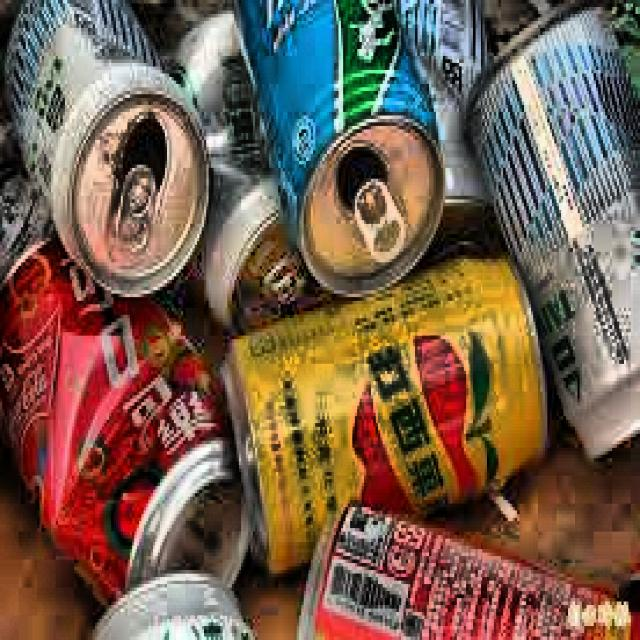can: (0, 106, 249, 595), (218, 237, 552, 575), (464, 0, 640, 468), (0, 0, 216, 308), (227, 0, 445, 290), (160, 0, 334, 332), (282, 486, 640, 640), (387, 0, 514, 262), (88, 561, 271, 640)
